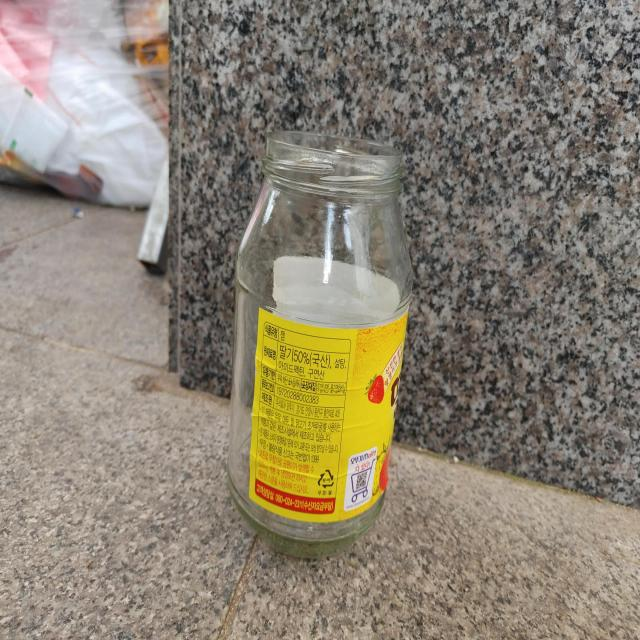glass: (228, 131, 412, 556)
